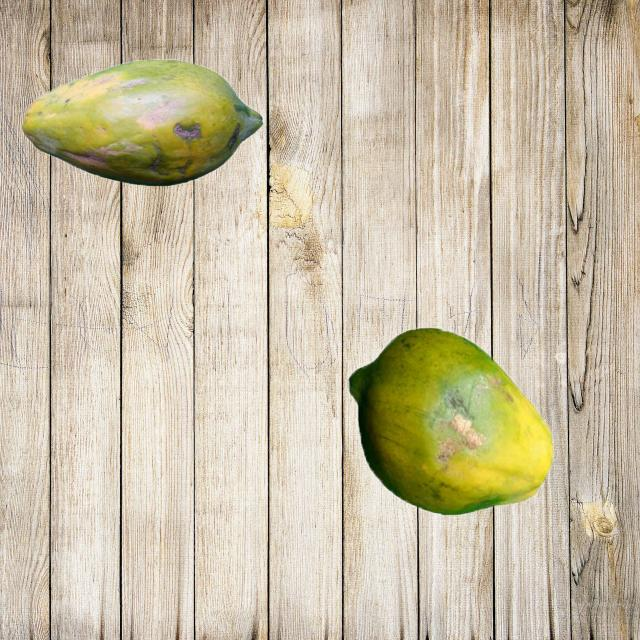Pepaya rippen: (330, 324, 556, 522), (11, 57, 270, 199)
